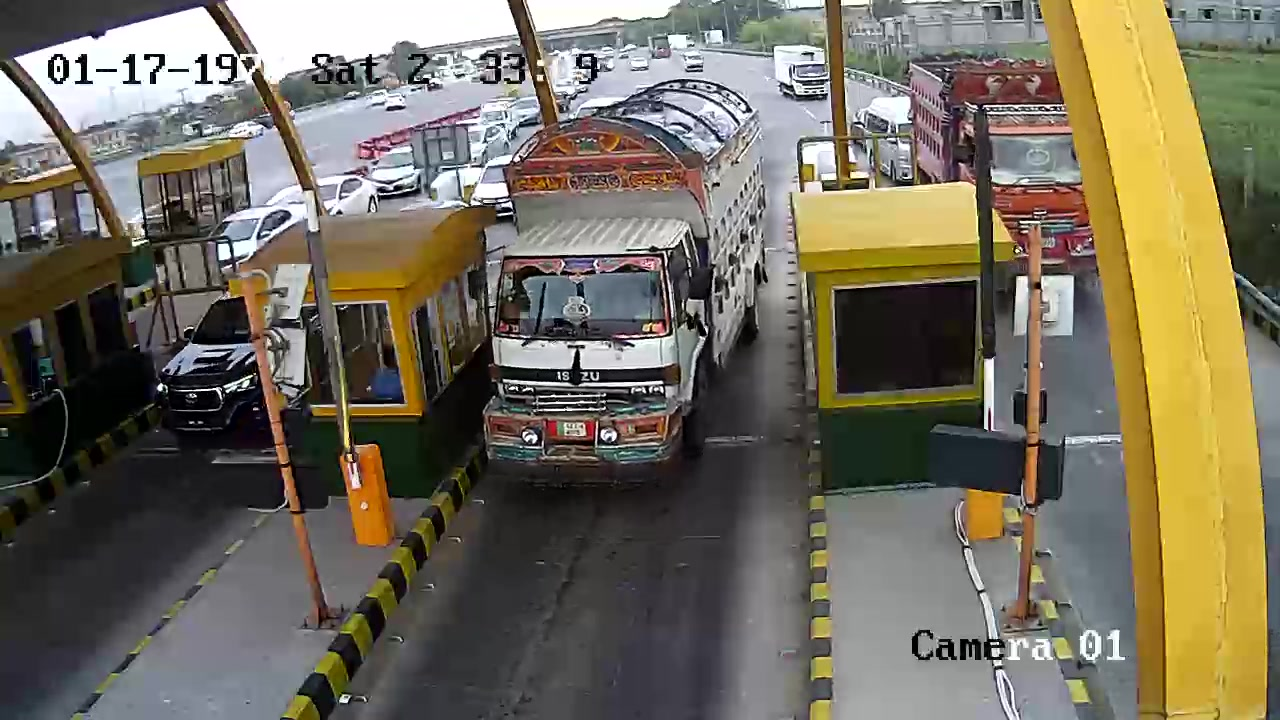F5: (465, 72, 763, 489)
